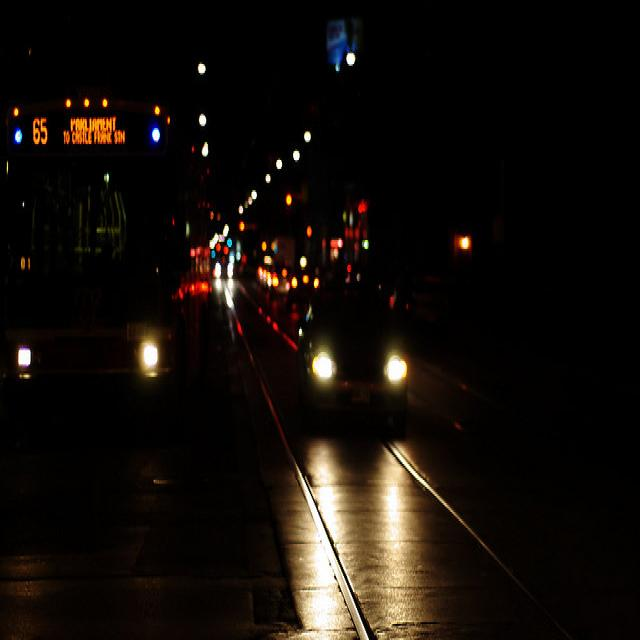Bus: (0, 73, 210, 521)
car: (287, 262, 426, 482), (209, 203, 242, 323)
